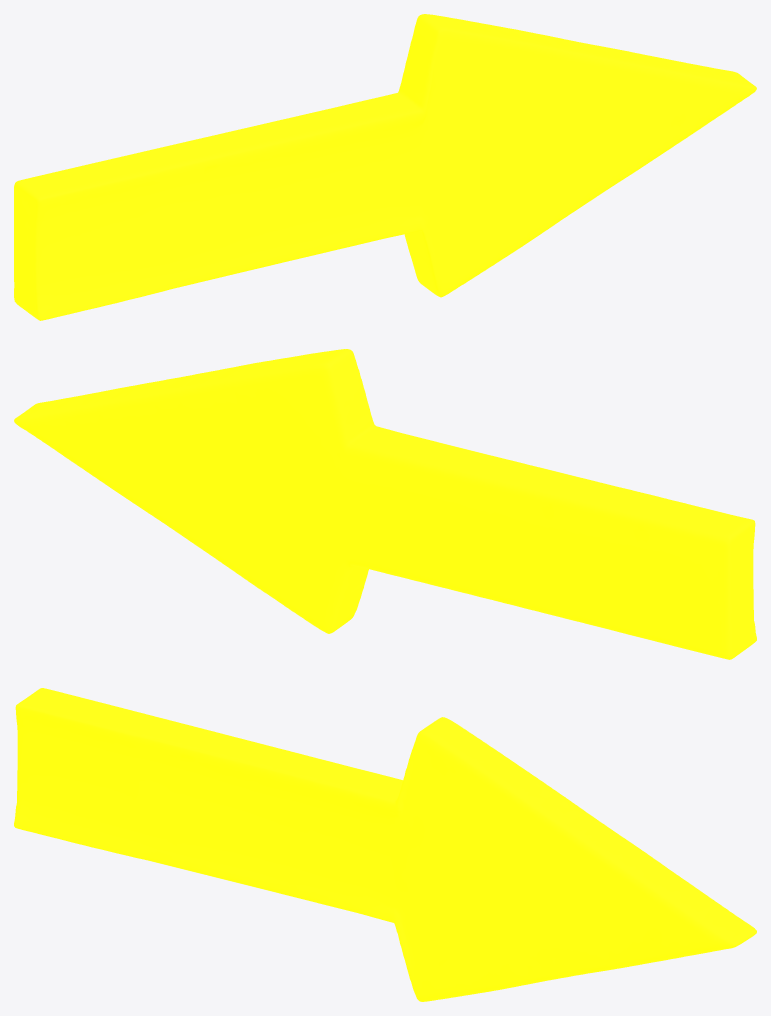
3 renders of one model, top to bottom at view 1: azimuth 30°, elevation 25°; view 2: azimuth 150°, elevation 25°; view 3: azimuth 330°, elevation 25°, orthographic.
Visible parts, largest first — view 1: Mesh_0.001; view 2: Mesh_0.001; view 3: Mesh_0.001.
Boxes of the visible parts, x1=… form: Mesh_0.001: x1=14, y1=14, x2=756, y2=320; Mesh_0.001: x1=14, y1=349, x2=756, y2=659; Mesh_0.001: x1=14, y1=688, x2=756, y2=1001.
Bounding box in the file's own units: 2 × 0.7156 × 0.1502.
